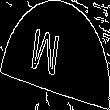M_S: (38, 25, 72, 85)
